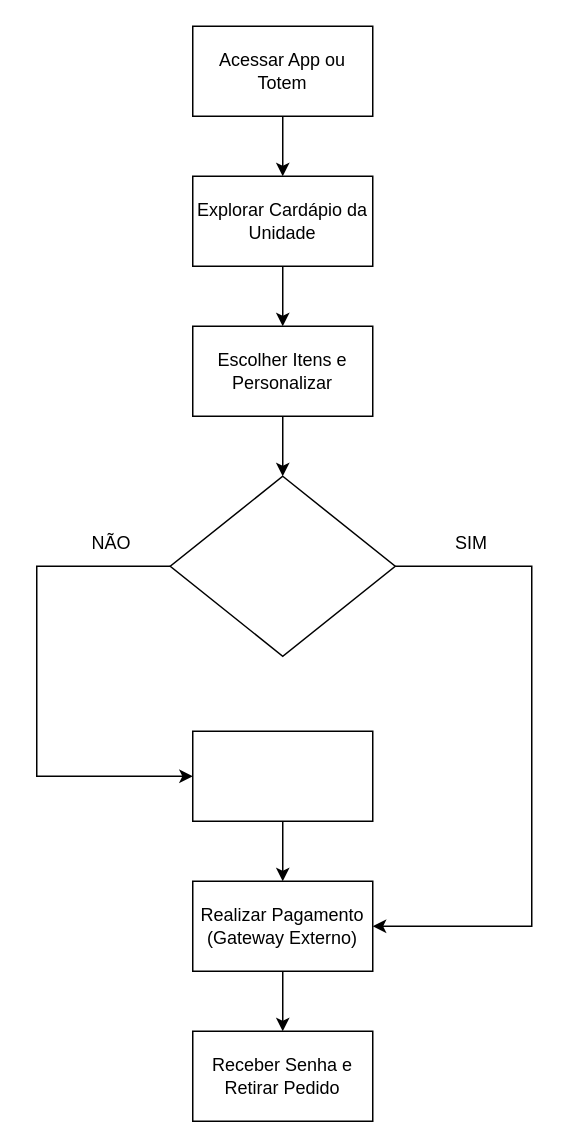
This 570x1148 diagram has some shape labels left out. The centre of each missing label's shape, as x and y in pixels:
Digitar Telefone e Aceitar Termos LGPD: [282,775]
Possui Cadastro de Fidelidade?: [282,565]
